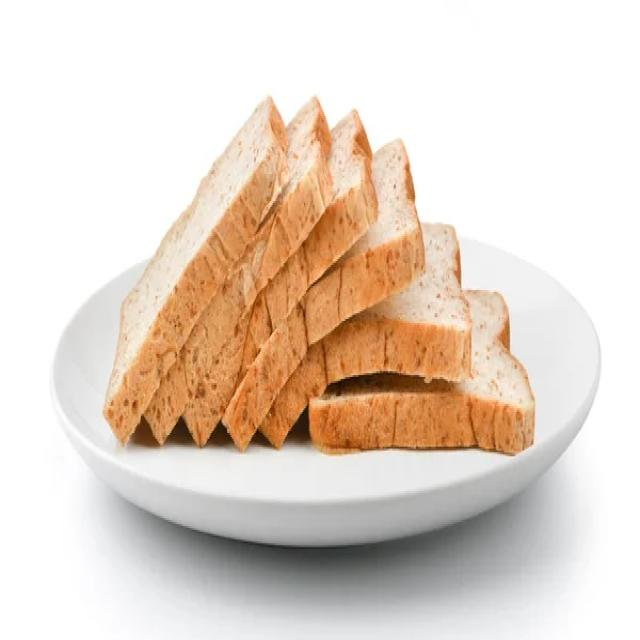Bread: (145, 100, 332, 441), (104, 97, 288, 443), (222, 140, 424, 450), (309, 292, 535, 453), (244, 111, 378, 375), (324, 224, 471, 382), (304, 109, 378, 284)
